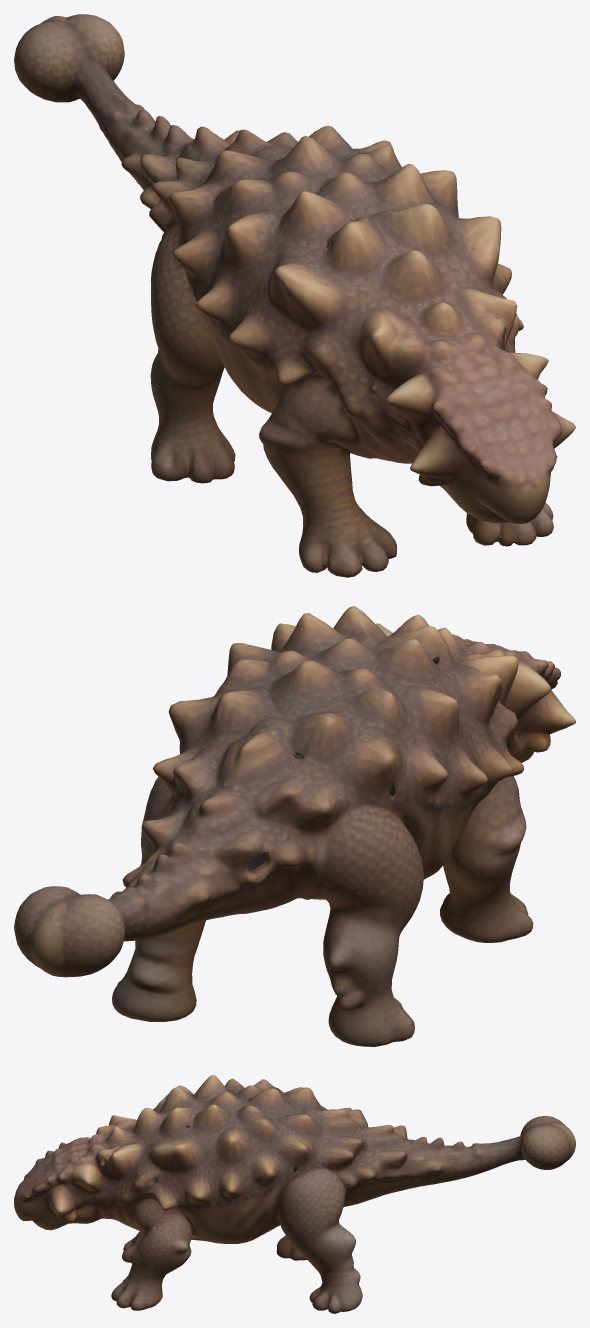
3 renders of one model, top to bottom at view 1: azimuth 30°, elevation 25°; view 2: azimuth 150°, elevation 25°; view 3: azimuth 270°, elevation 25°, orthographic. The views are drawn at different scales.
Visible parts, largest first — view 1: world; view 2: world; view 3: world.
Part boxes in pixels (left/top/right/bottom): world: left=14, top=14, right=575, bottom=577; world: left=14, top=606, right=575, bottom=1046; world: left=14, top=1075, right=575, bottom=1313.
Bounding box in the file's own units: 2.39 × 2.6 × 7.
Materials: 1 (1 with a texture image).
